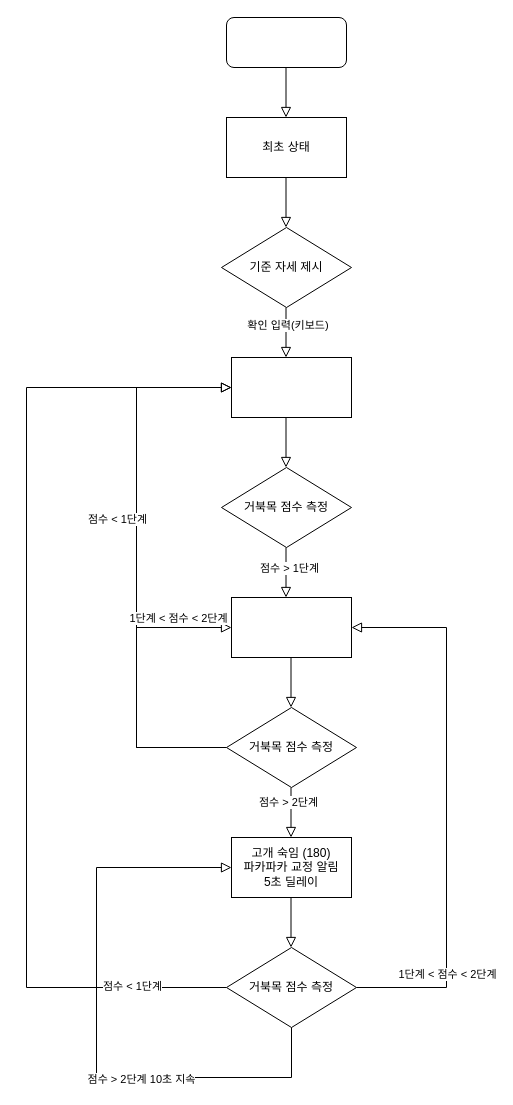
Image size: 513x1105. Some labels were removed from this diagram. The centre of each missing label's shape, as x and y in pixels:
"고개 숙임 (90) 5초 딜레이" goes at point (291, 627).
"기본 위치(0)" goes at point (291, 387).
"파카파카 시작" goes at point (286, 42).
